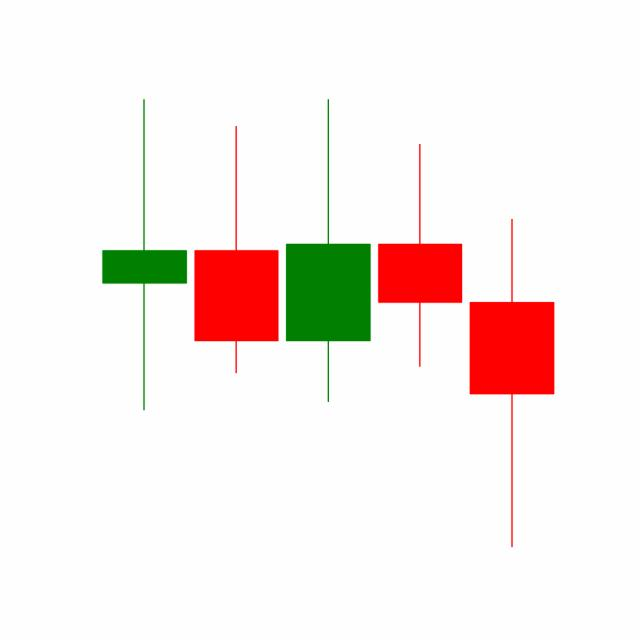Spinning Top: (373, 142, 467, 370)
